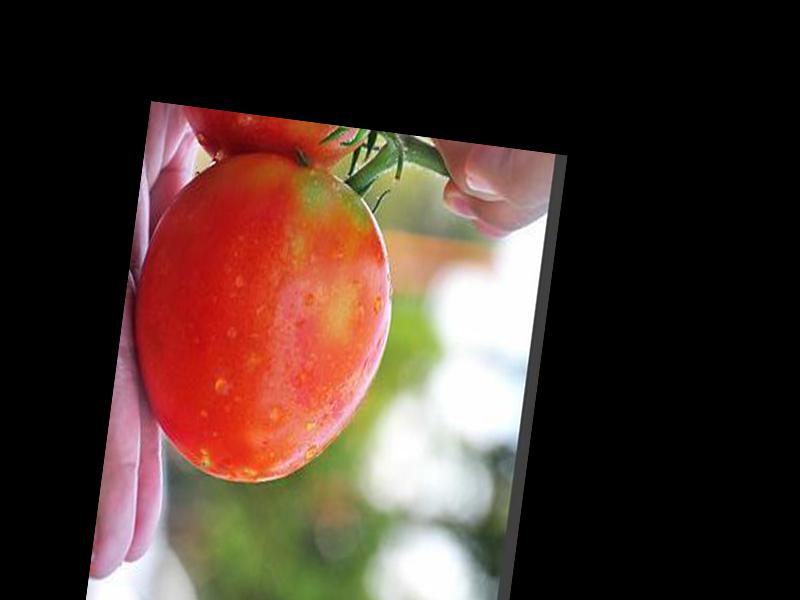Tomato: (116, 141, 409, 497)
